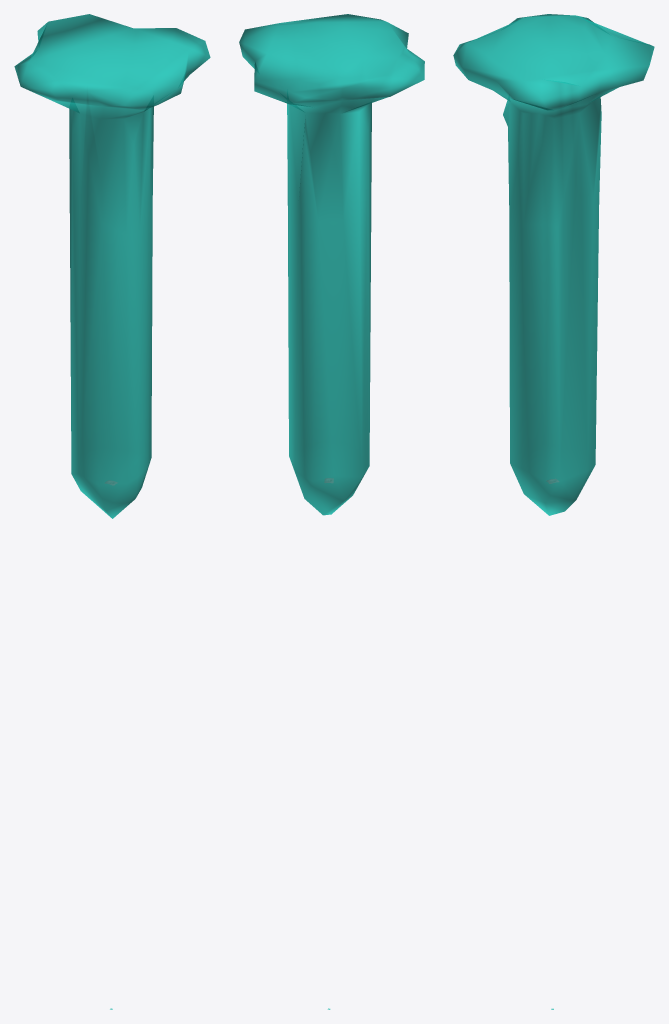
The picture shows the model from 3 angles, left to right: view 1: azimuth 30°, elevation 25°; view 2: azimuth 150°, elevation 25°; view 3: azimuth 270°, elevation 25°; orthographic projection.
Visible parts, largest first — view 1: Liquid_Domain; view 2: Liquid_Domain; view 3: Liquid_Domain.
Part boxes in pixels (<box>): Liquid_Domain: <box>14,14,210,518</box>; Liquid_Domain: <box>239,14,424,515</box>; Liquid_Domain: <box>453,14,654,515</box>.
Size of the model in its own units: 302 by 1517 by 288.
